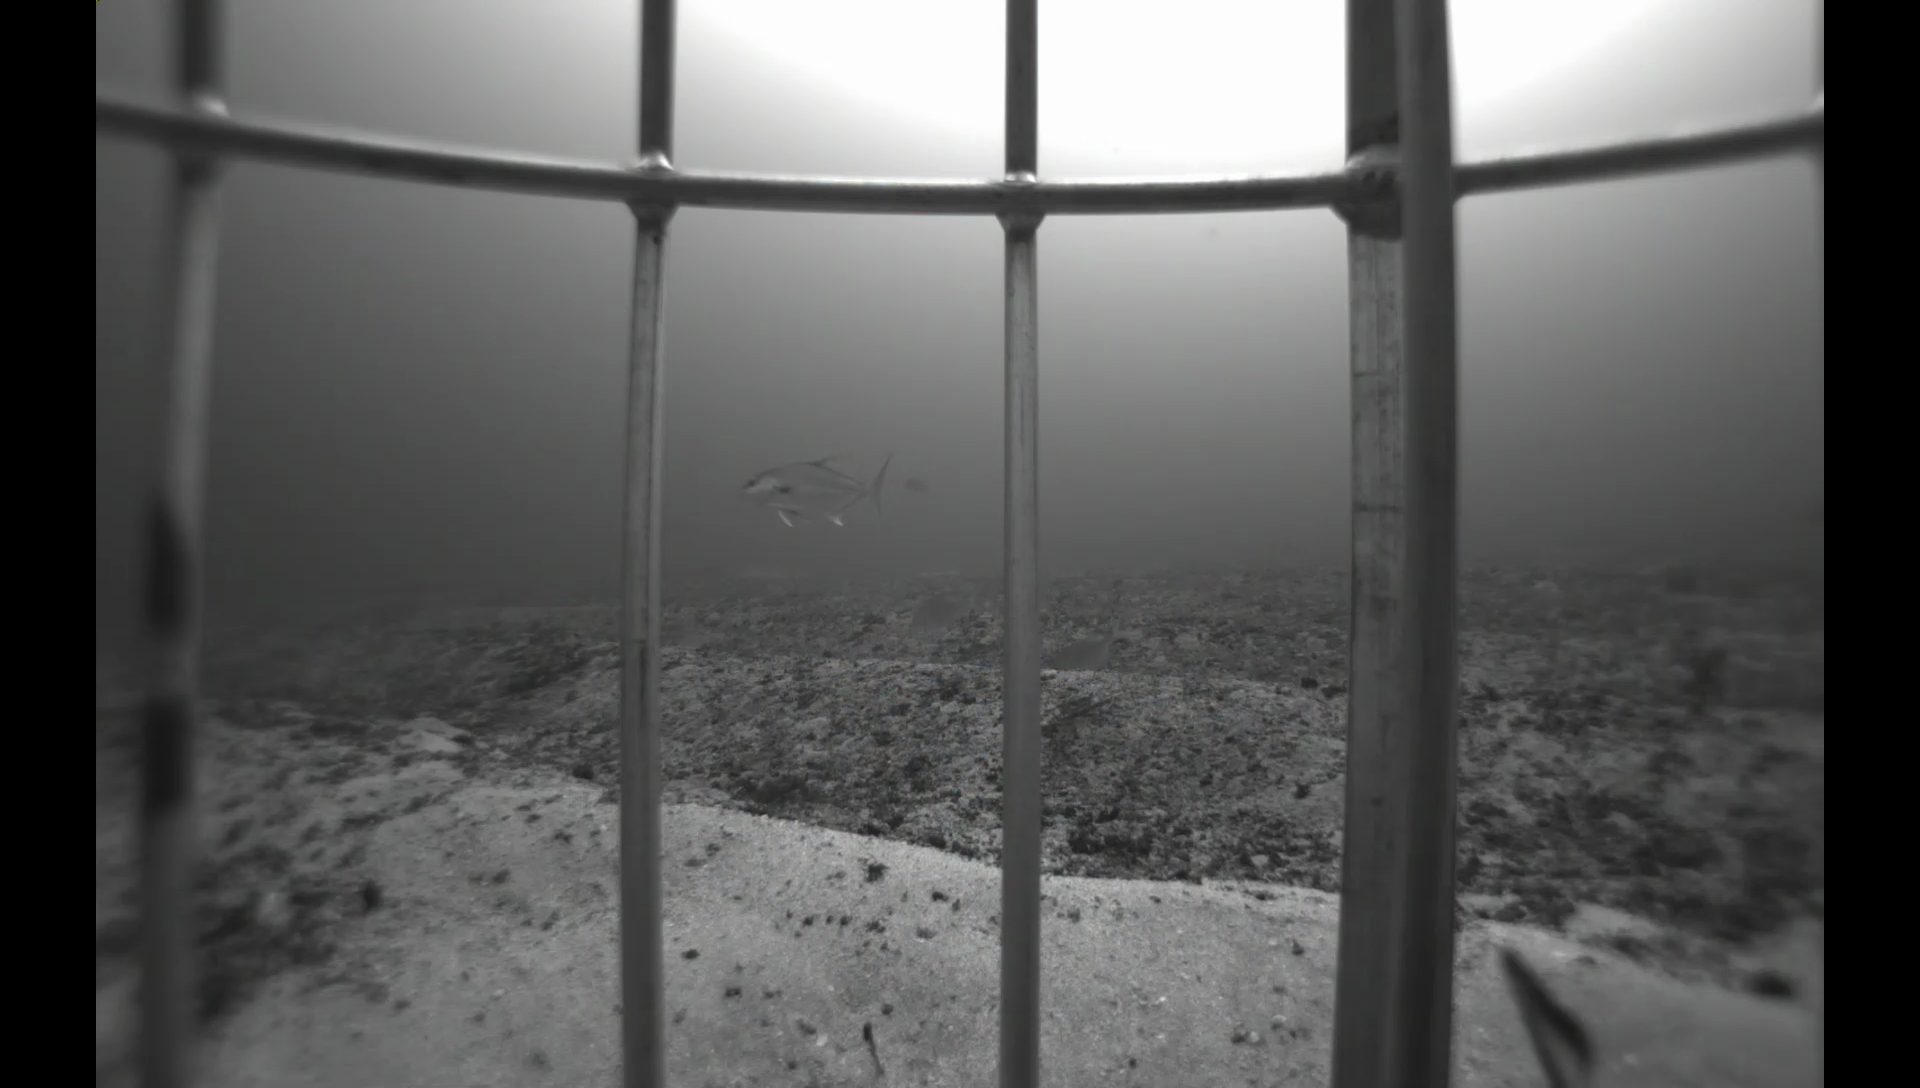CALAMUS-170210600: (905, 579, 992, 645), (1040, 619, 1138, 674)
EPINEPHELUSMORIO-170021211: (1473, 935, 1610, 1088), (1784, 499, 1824, 531)
RHOMBOPLITESAURORUBENS-170152001: (895, 476, 935, 495)
SERIOLARIVOLIANA-170113105: (732, 448, 899, 535)
